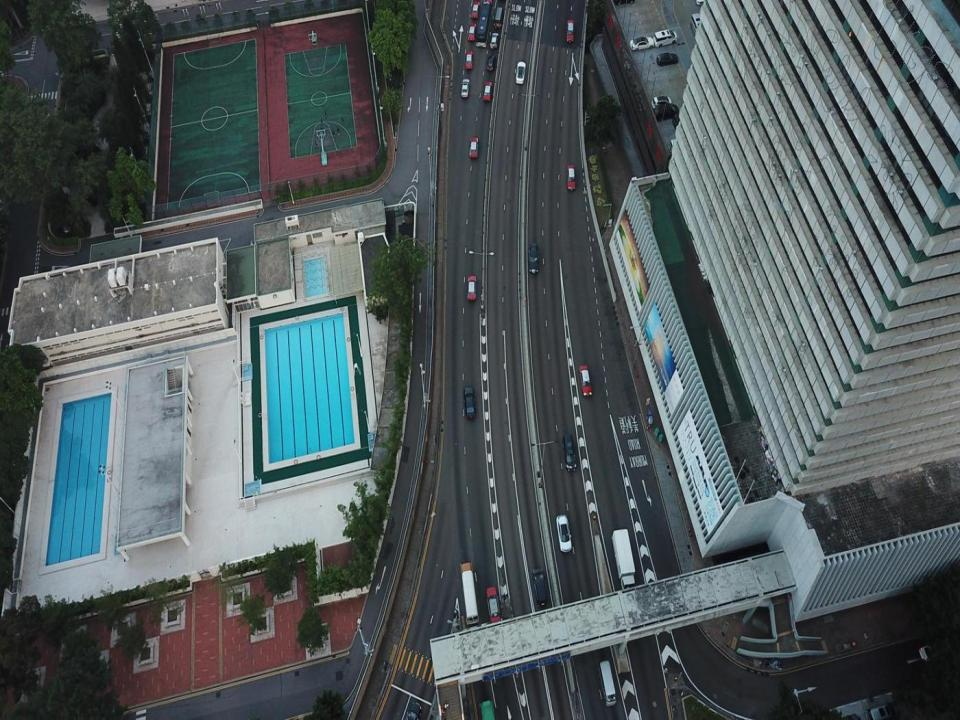bus: (460, 561, 479, 625), (474, 0, 491, 48), (599, 660, 616, 706)
car: (555, 514, 572, 553), (486, 586, 500, 628), (532, 567, 546, 607), (563, 433, 577, 471), (919, 644, 948, 662), (579, 366, 592, 397), (464, 386, 475, 420), (630, 36, 654, 51), (656, 52, 678, 66), (529, 244, 539, 274), (405, 702, 422, 719), (672, 111, 691, 126), (467, 275, 477, 301), (652, 96, 671, 109), (567, 164, 576, 191), (468, 136, 478, 159), (516, 61, 525, 84), (483, 81, 492, 103), (461, 78, 470, 98), (471, 2, 480, 20), (465, 50, 472, 70), (467, 23, 475, 40), (567, 20, 573, 42), (490, 31, 497, 49), (488, 53, 494, 71)
truck: (612, 528, 637, 592)
van: (653, 103, 679, 121), (653, 30, 677, 48), (690, 12, 702, 37), (669, 139, 682, 154), (494, 8, 502, 28)
